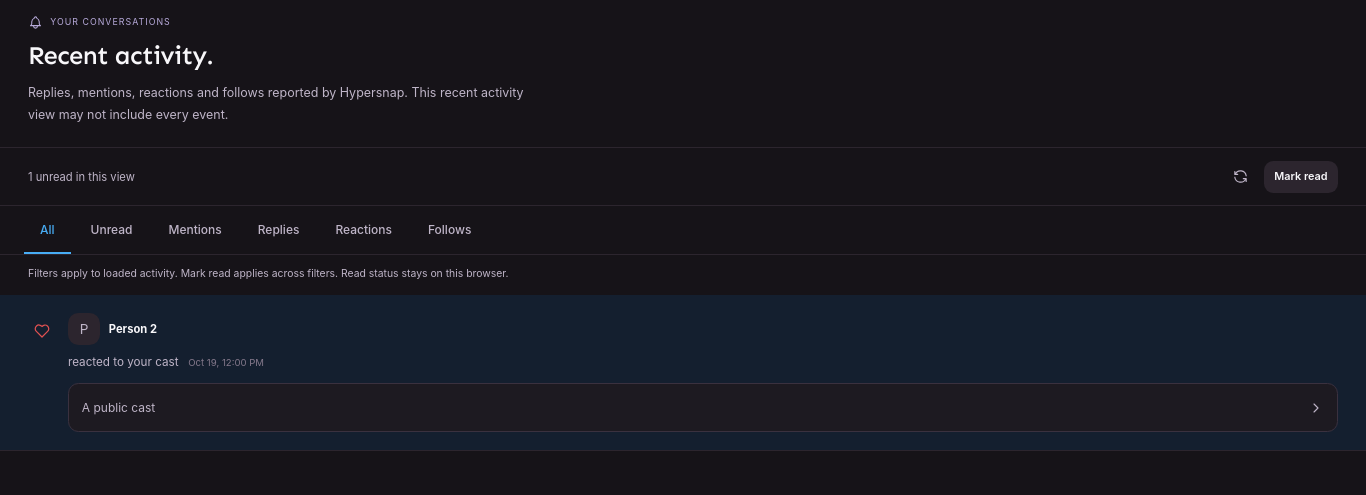
Test: isolated feature panels › keeps read activity usable when browser storage is unavailable
Step 1. Click the button "Mark read" → (1301, 176), box [1264,160,1338,192]
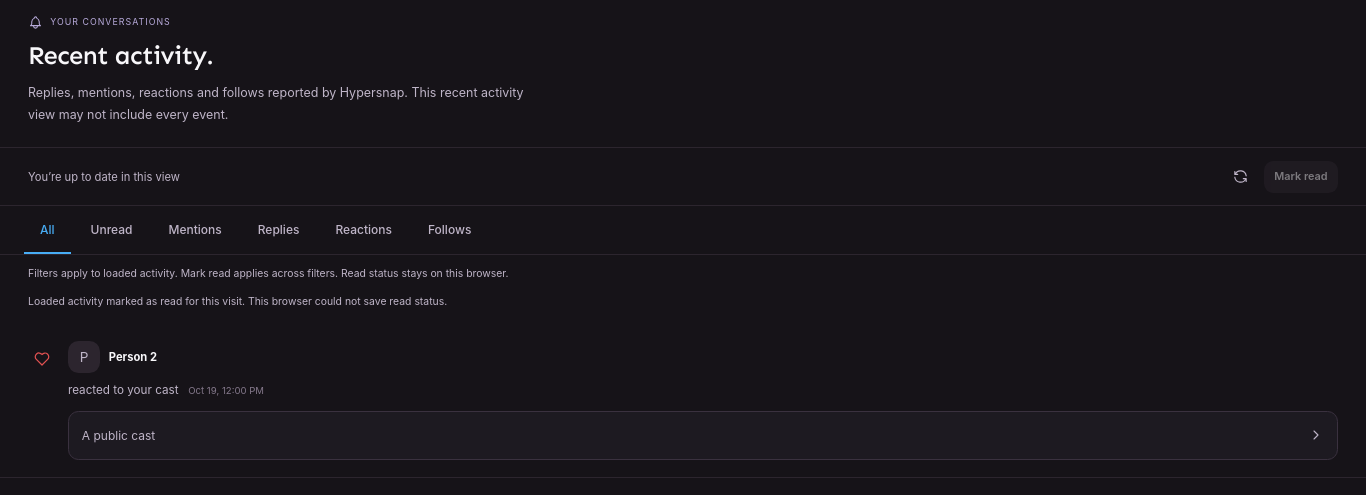
Expected: the text "for this visit" is shown, [28,295,447,308]
Expected: the text "could not save read status" is shown, [28,295,447,308]
